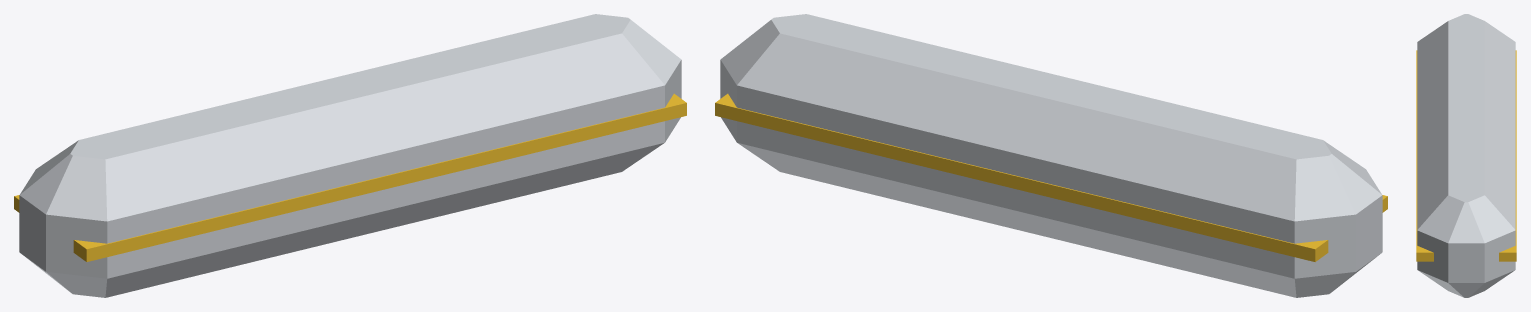
Rendered from snake.glb.
3 renders of one model, left to right at view 1: azimuth 30°, elevation 25°; view 2: azimuth 150°, elevation 25°; view 3: azimuth 270°, elevation 25°, orthographic. The views are drawn at different scales.
Parts seen in each view (by area): view 1: snake; view 2: snake; view 3: snake.
Boxes of the visible parts, x1,y1,x2,y2 form: snake: [14, 14, 686, 297]; snake: [715, 14, 1387, 297]; snake: [1416, 14, 1516, 297].
Bounding box in the file's own units: 3.6 × 0.75 × 0.712.
